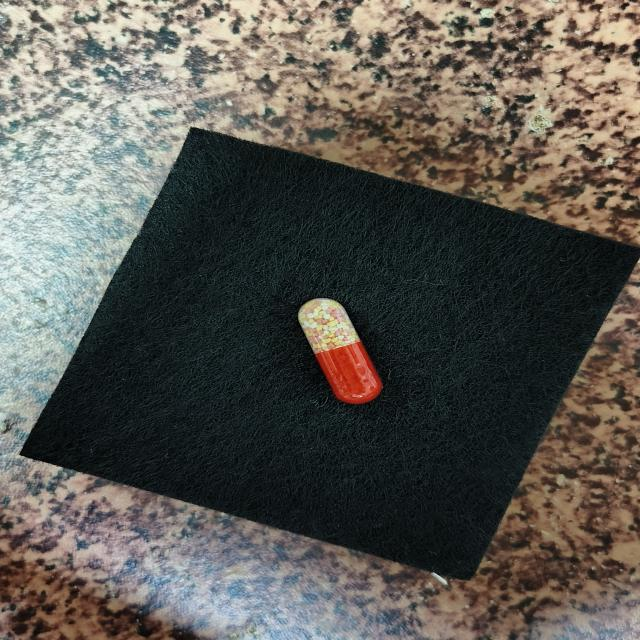Intact Capsule: (298, 298, 382, 404)
